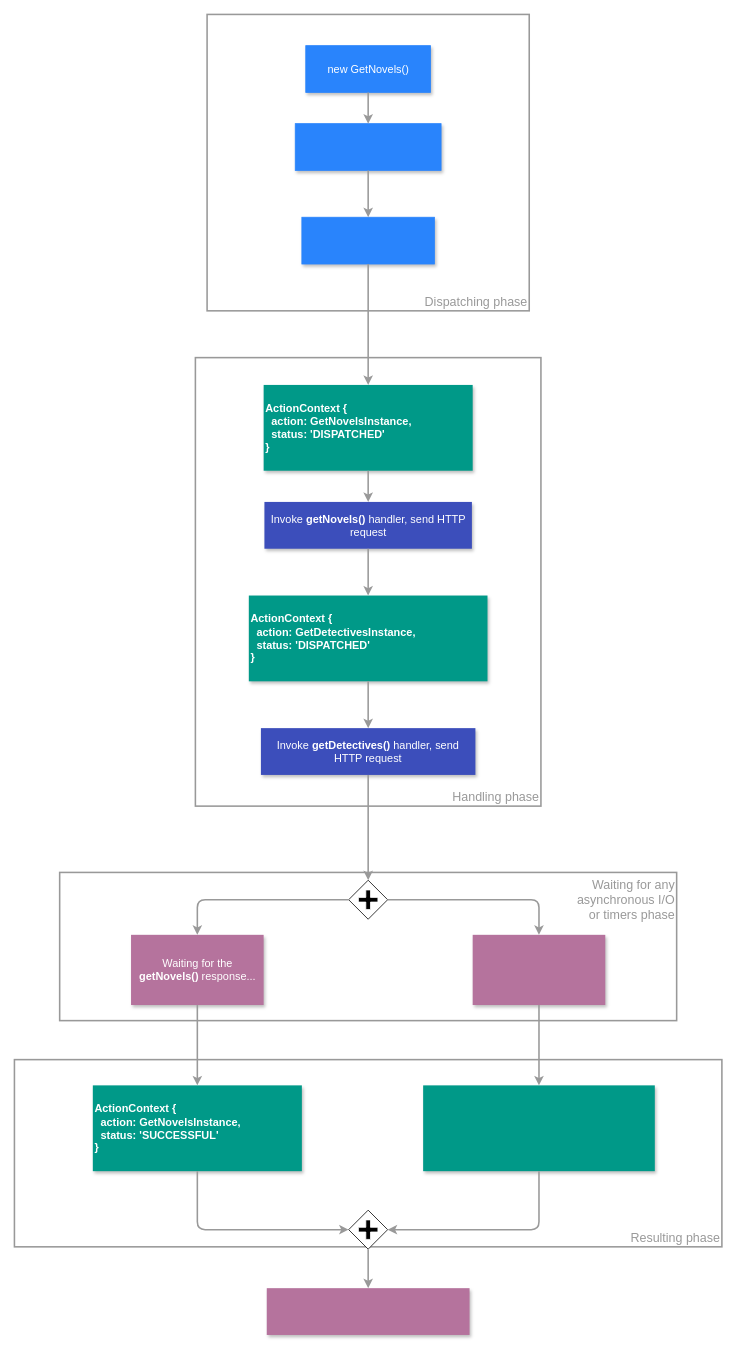
Some shapes in this 736 by 1353 pixel diagram are drawn without their labels. Each missing label, with the centre of its shape:
"ActionContext { action: GetDetectivesInstance, status: 'SUCCESSFUL' }" belongs at point (539, 1129).
"InternalActions" belongs at point (368, 241).
"Invoke subscribe callback" belongs at point (368, 1312).
"new GetDetectives()" belongs at point (368, 148).
"Waiting for the getDetectives() response..." belongs at point (539, 970).
